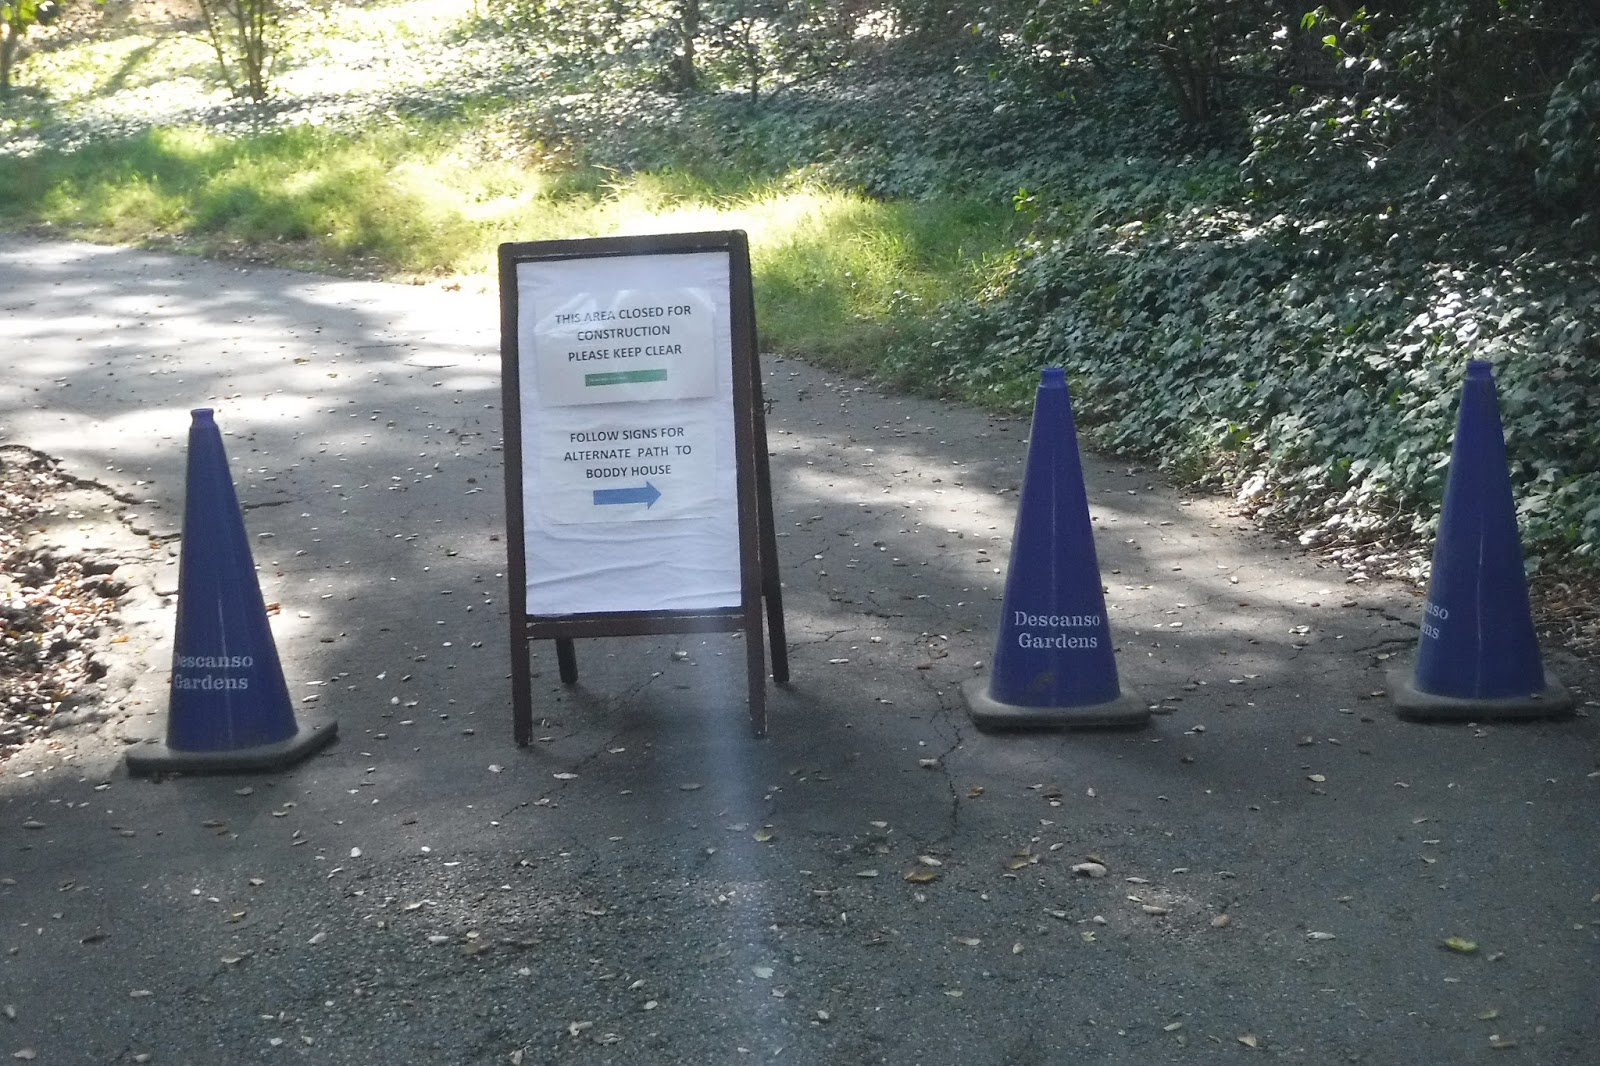cone: (103, 410, 347, 784), (1370, 356, 1586, 720), (965, 371, 1174, 735)
